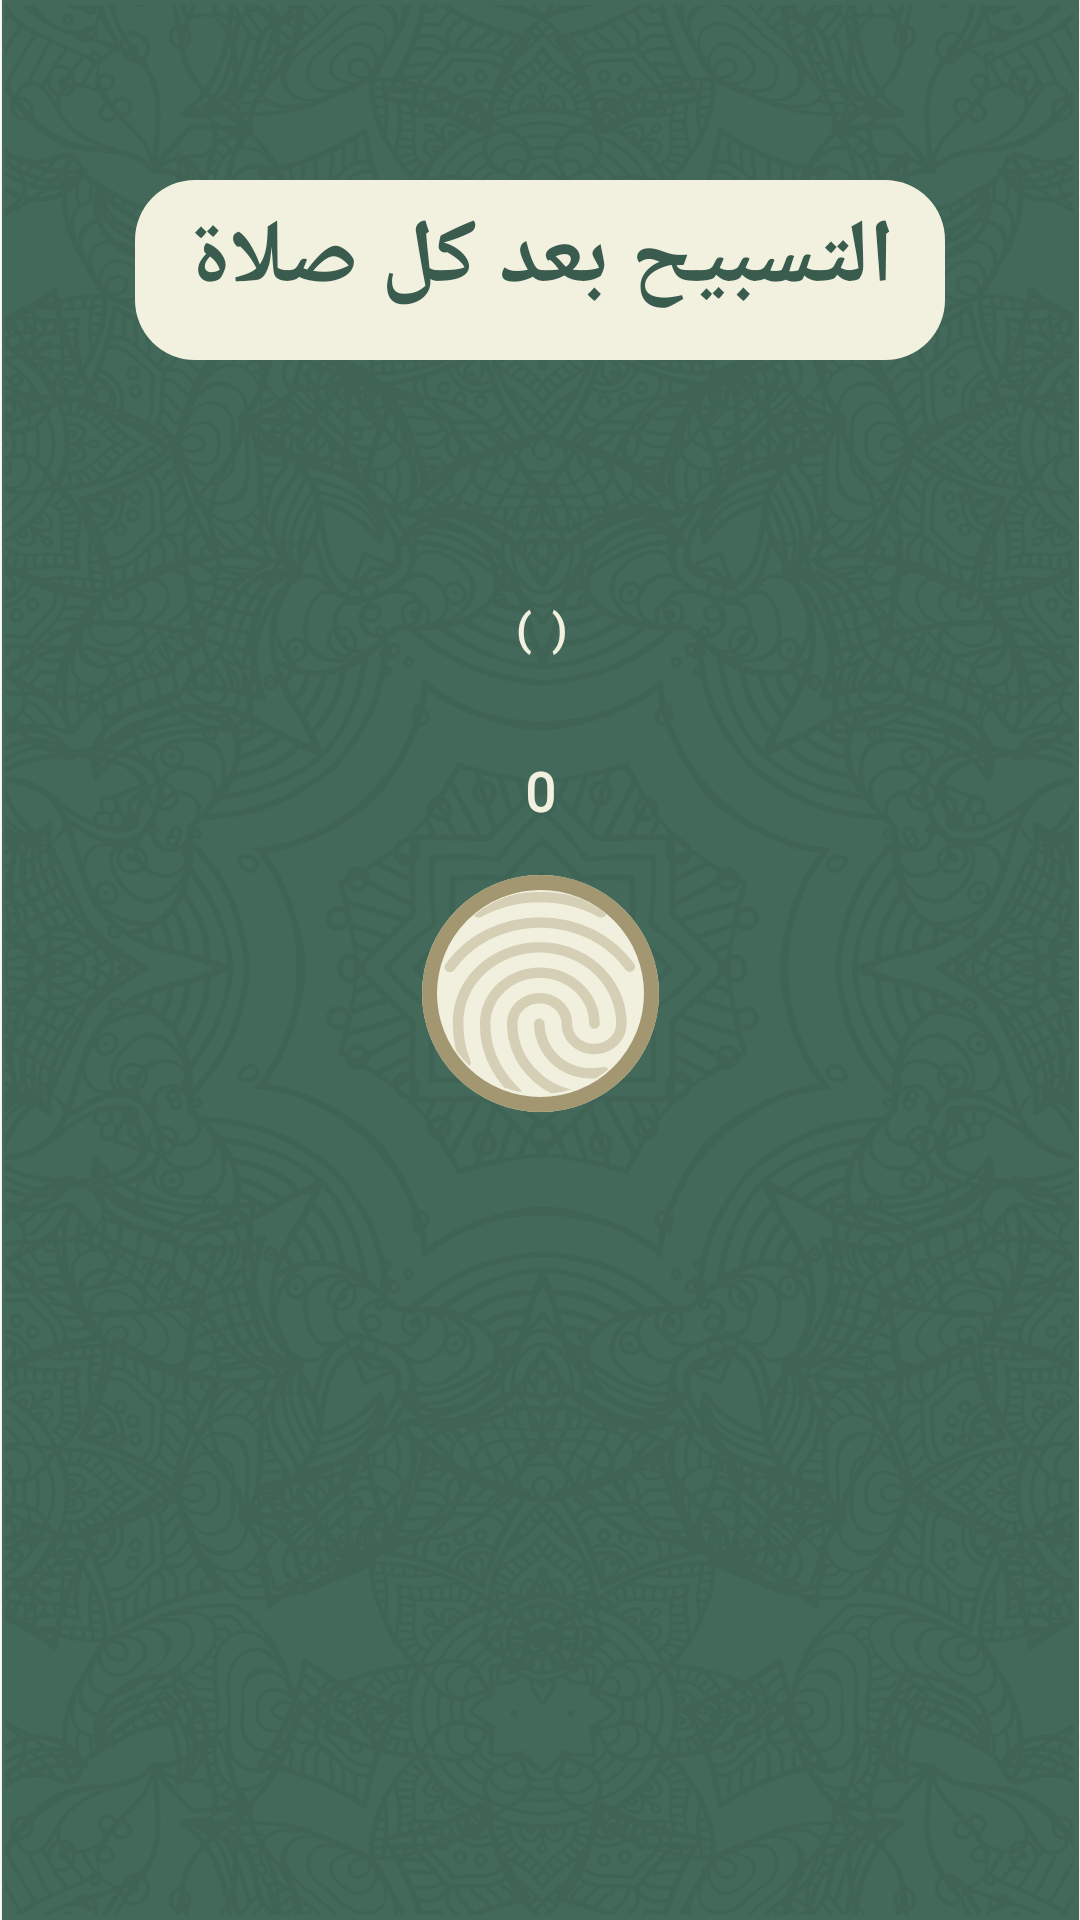

Named icons in this screenshot (1080 × 1920) and their bounding boxes, Rect(x1, y1, x2, y2):
fingerprint: Rect(422, 875, 659, 1112)
